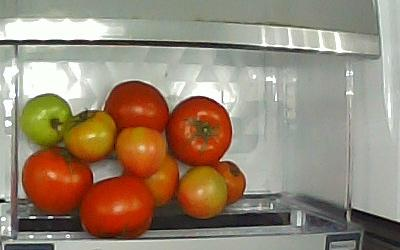tomato: (22, 146, 94, 217), (78, 174, 154, 239), (169, 96, 232, 166), (102, 80, 169, 133), (119, 156, 179, 205), (20, 92, 71, 147), (62, 110, 116, 161), (116, 127, 170, 177), (178, 166, 228, 218), (213, 161, 246, 205)
